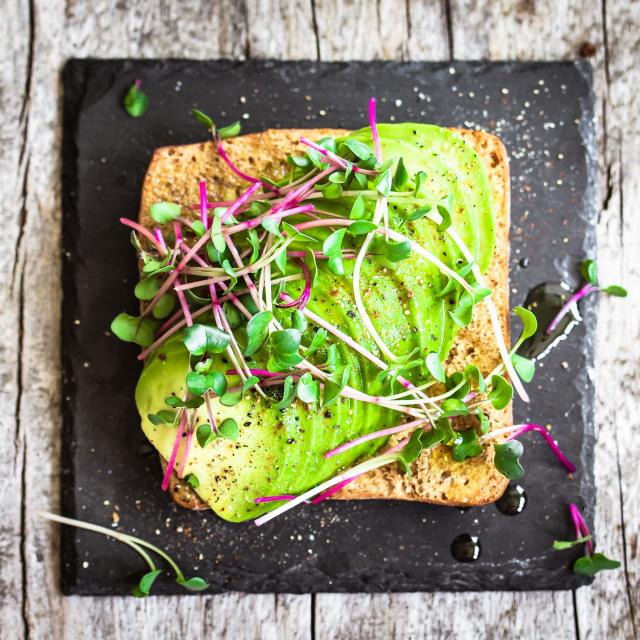aguacate: (128, 334, 293, 532)
